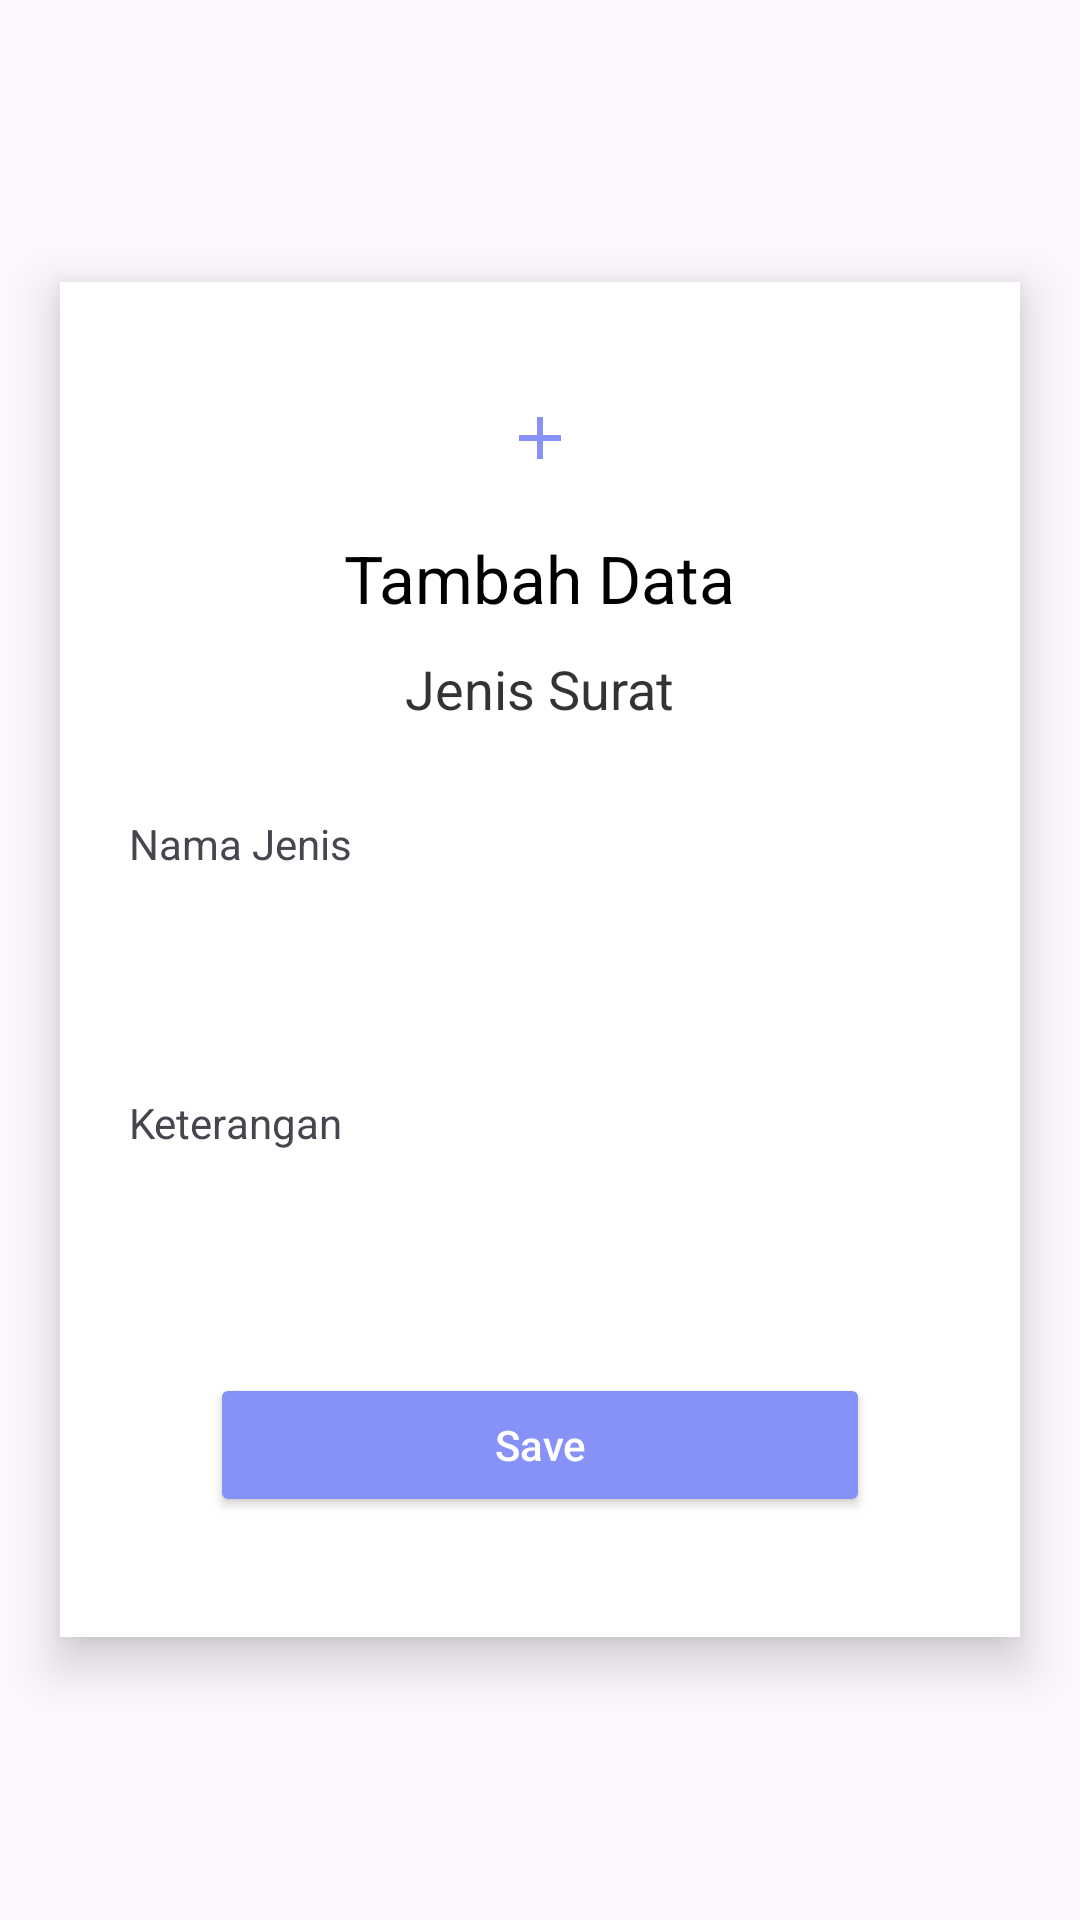

Named icons in this screenshot (1080×1920) and their bounding boxes, bbox=(x1, y1, x2, y2):
add: bbox=(519, 417, 561, 459)
